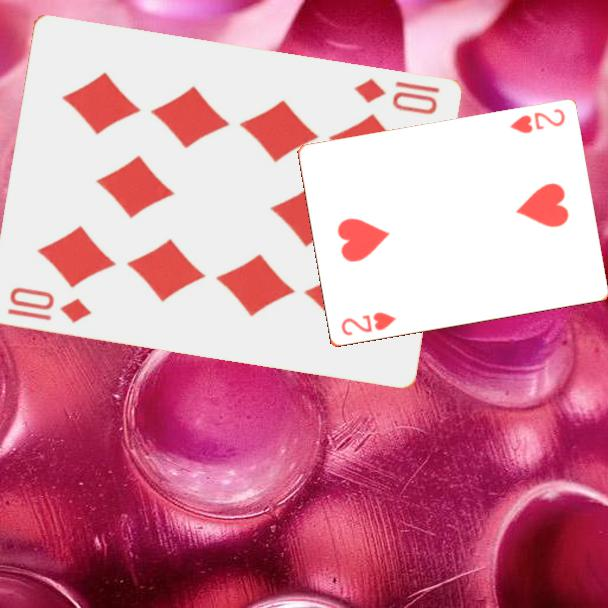d10: (350, 75, 442, 118), (3, 284, 94, 327)
h02: (506, 106, 568, 137), (337, 309, 399, 339)
